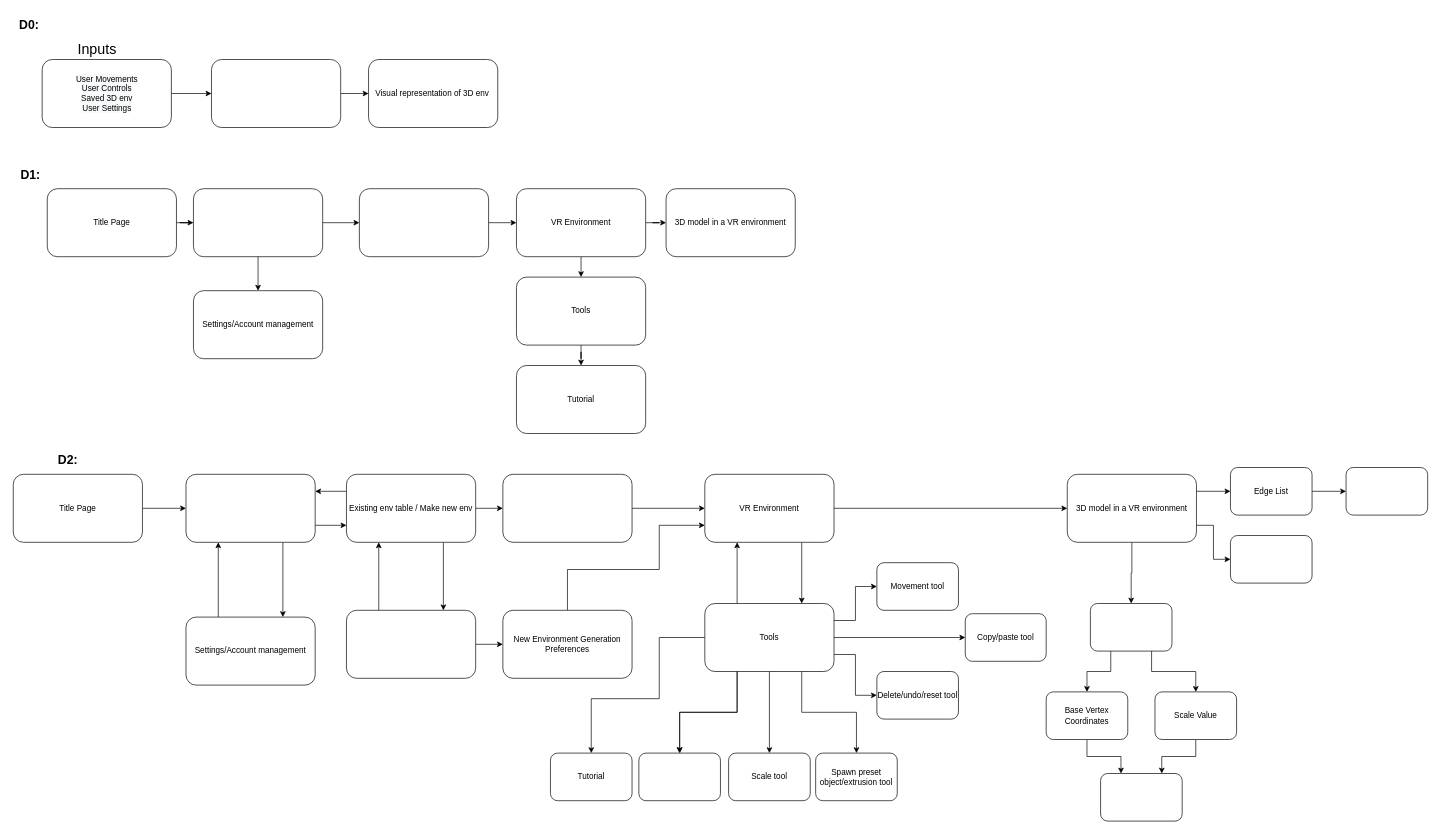
Image size: 1440x833. Some labels were removed from this diagram. The shapes that lost their labels are listed below. From the top down, each one's centre as x and y in pixels, then its label:
point 276,93: Processing and mapping controls and movements onto the saved 3D env
point 258,222: Main Menu / Environment Selector
point 424,222: Open new/existing env
point 250,508: Main Menu
point 567,508: Existing env
point 1386,491: Connected Vertices
point 1271,559: Origin Point
point 411,644: New env
point 1131,627: Vertex List
point 679,776: Draw/extrude tool
point 1141,797: Actual Vertex Position
